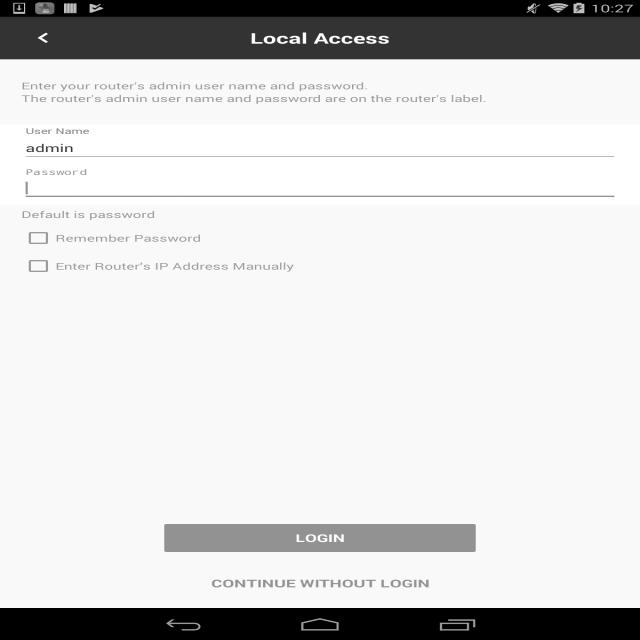Button: (160, 520, 480, 556), (160, 566, 480, 602)
CheckBox: (21, 255, 294, 277), (21, 227, 201, 249)
EditText: (21, 134, 619, 162), (21, 175, 619, 202)
ImageButton: (8, 17, 77, 59)
TextView: (0, 59, 640, 92), (0, 92, 640, 105), (250, 28, 390, 48), (21, 208, 156, 221)
